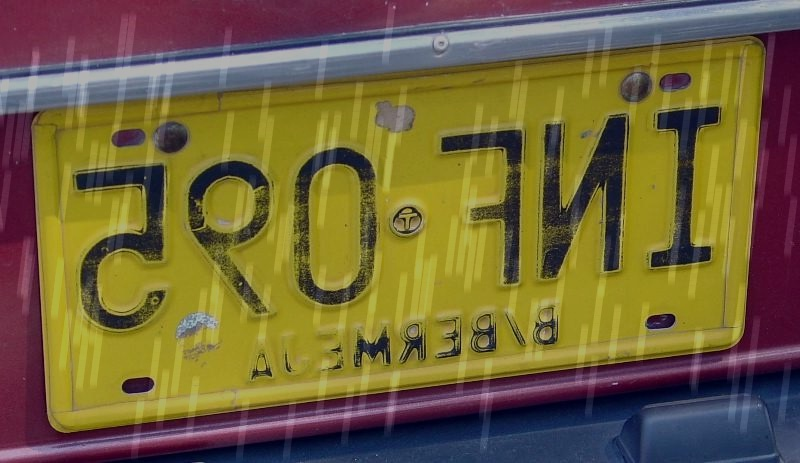placas: (26, 23, 773, 447)
